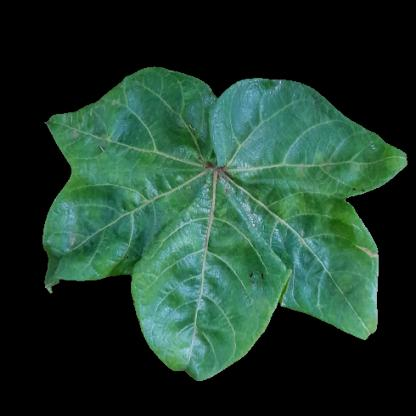healthy: (97, 112, 313, 270), (152, 269, 250, 355), (316, 255, 380, 325), (310, 121, 372, 191), (53, 208, 99, 275)
